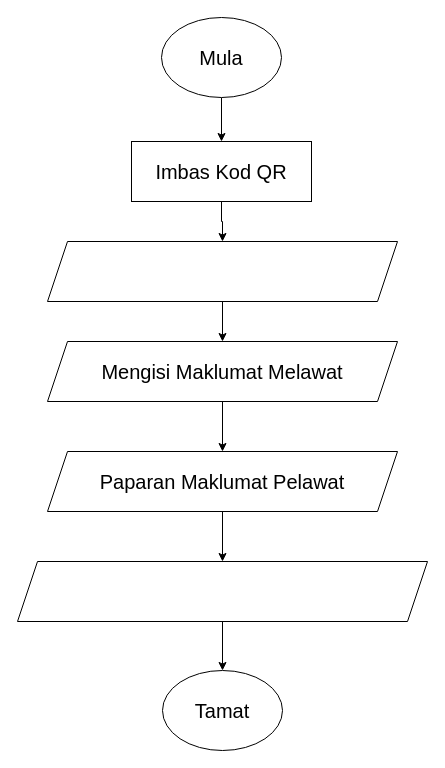
Image size: 445x768. Some labels were removed from this diagram. The box of each missing label's shape, as (x1, y1, x2, y2) in pixels:
Mengisi Maklumat Peribadi: (46, 240, 398, 302)
Mengisi No ID Pelawat untuk Log Keluar: (16, 560, 428, 622)
